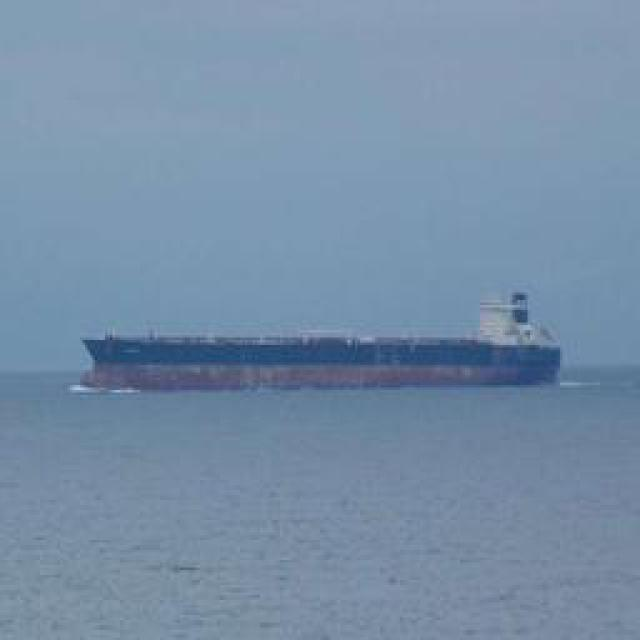Ship: (84, 314, 567, 389)
